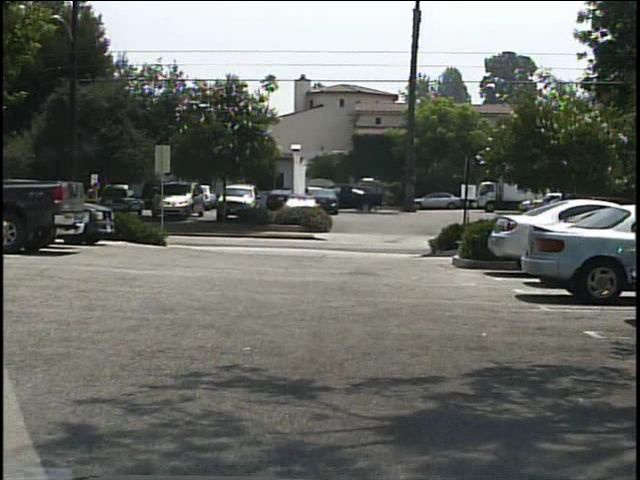person: (85, 183, 108, 244)
